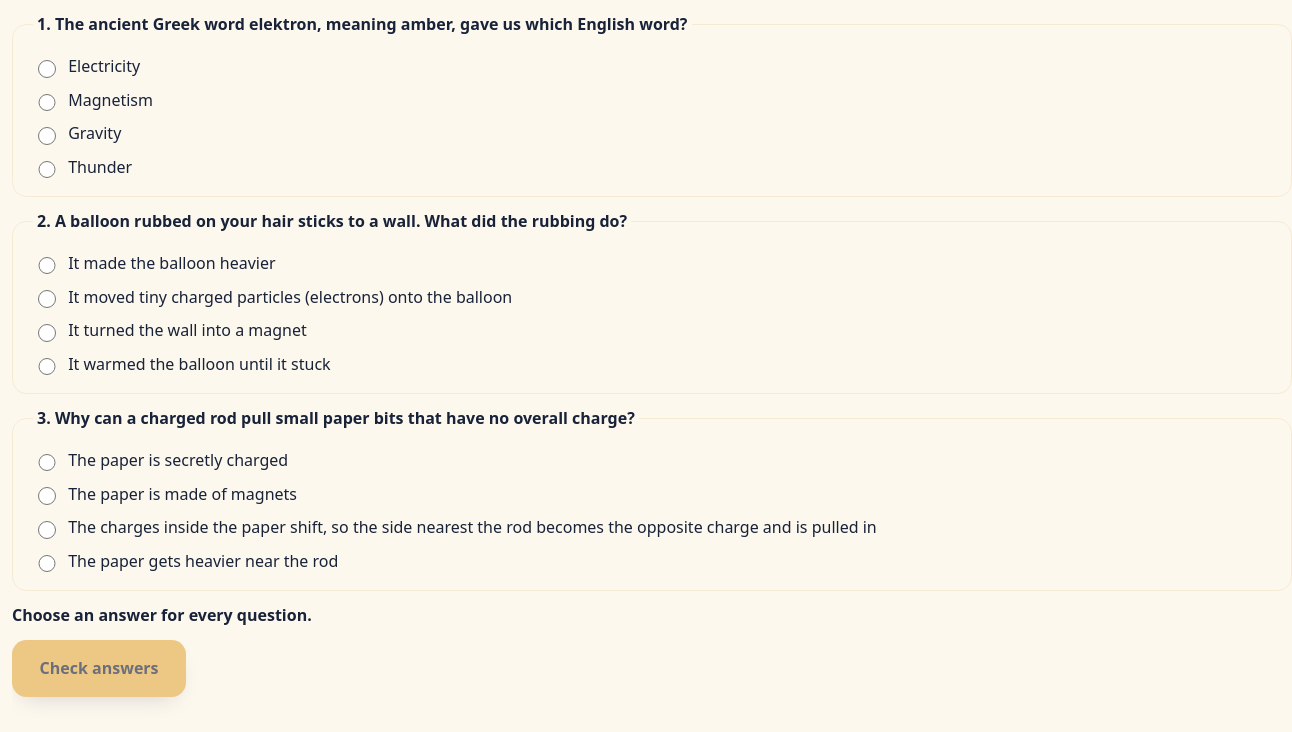
Test case: KnowledgeCheck › keeps Check answers disabled until every question is answered
Expected: the button "Check answers" is disabled, left=12, top=640, right=186, bottom=697
Click the radio button labelled "Electricity" at (47, 69), box left=38, top=60, right=56, bottom=78
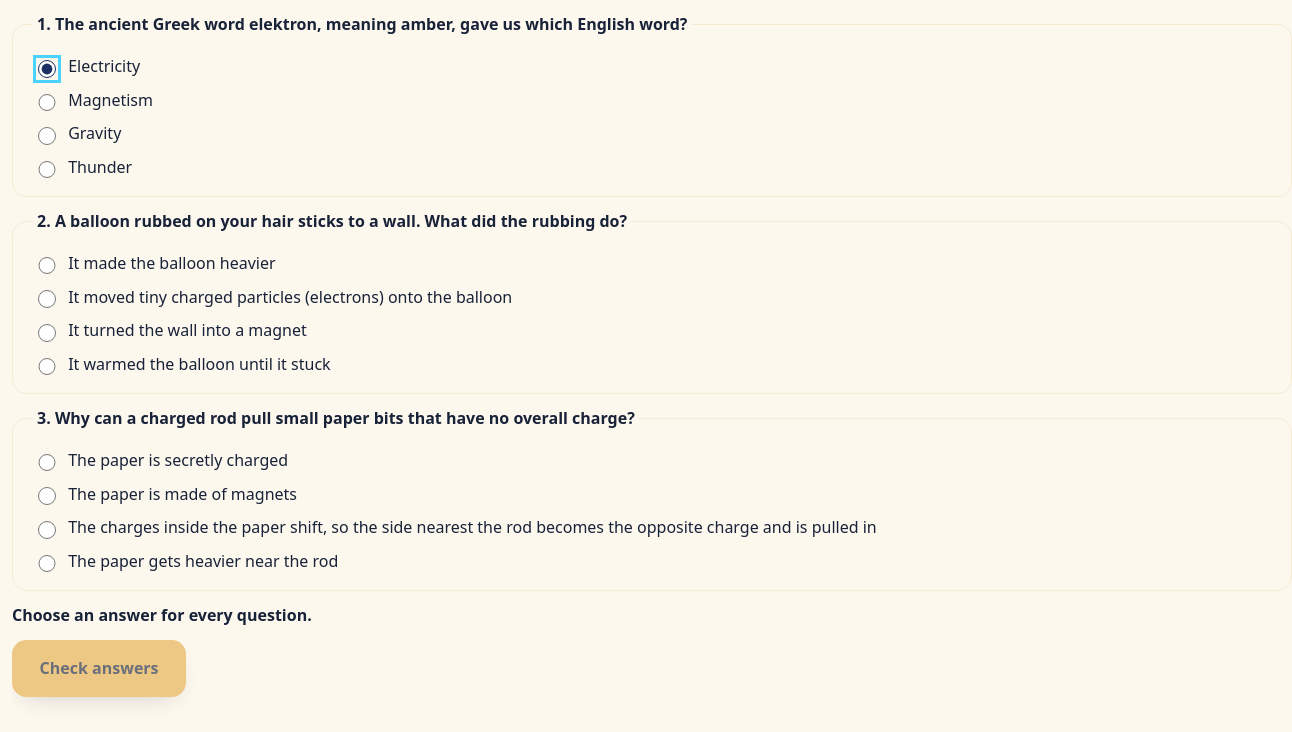
Click the radio button labelled "It moved tiny charged particles (electrons) onto the balloon" at (47, 299), box left=38, top=290, right=56, bottom=308
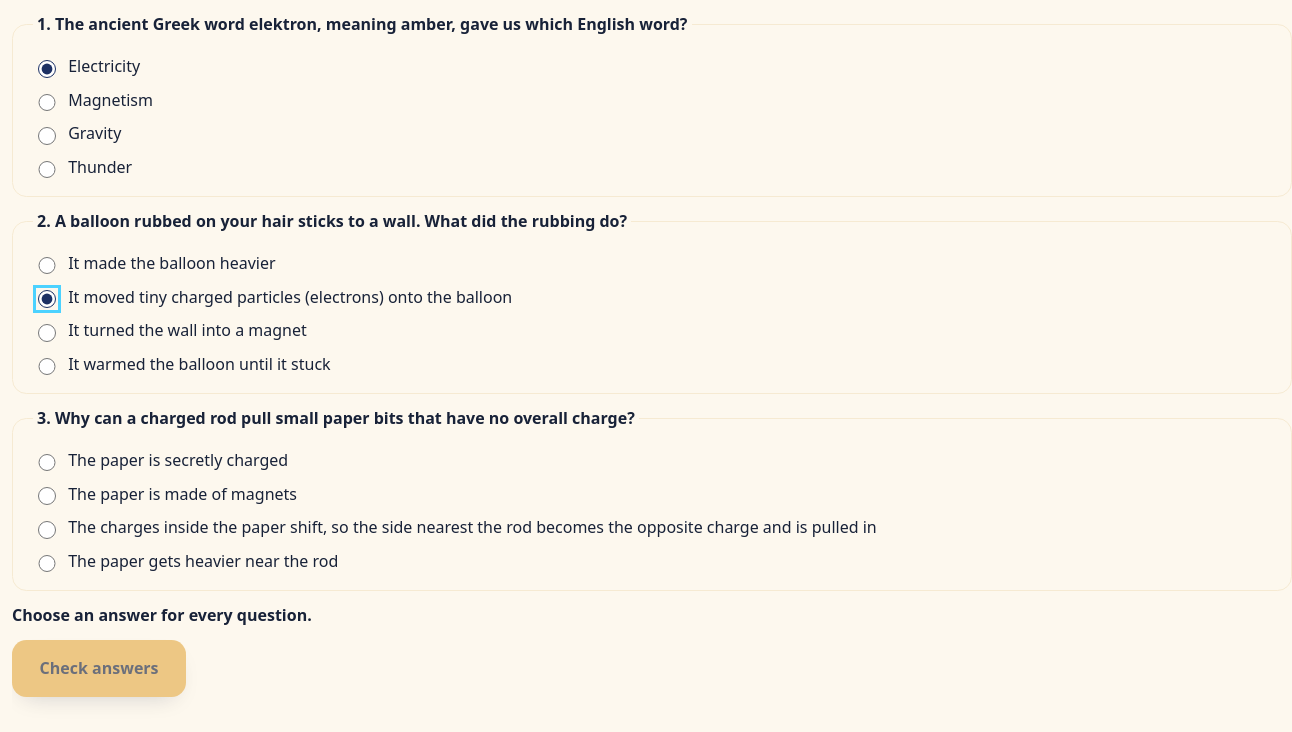
Expected: the button "Check answers" is disabled, left=12, top=640, right=186, bottom=697
Click the radio button named "The charges inside the paper shift, so the side nearest the rod becomes the opposite charge and is pulled in" at (47, 530), box left=38, top=521, right=56, bottom=539
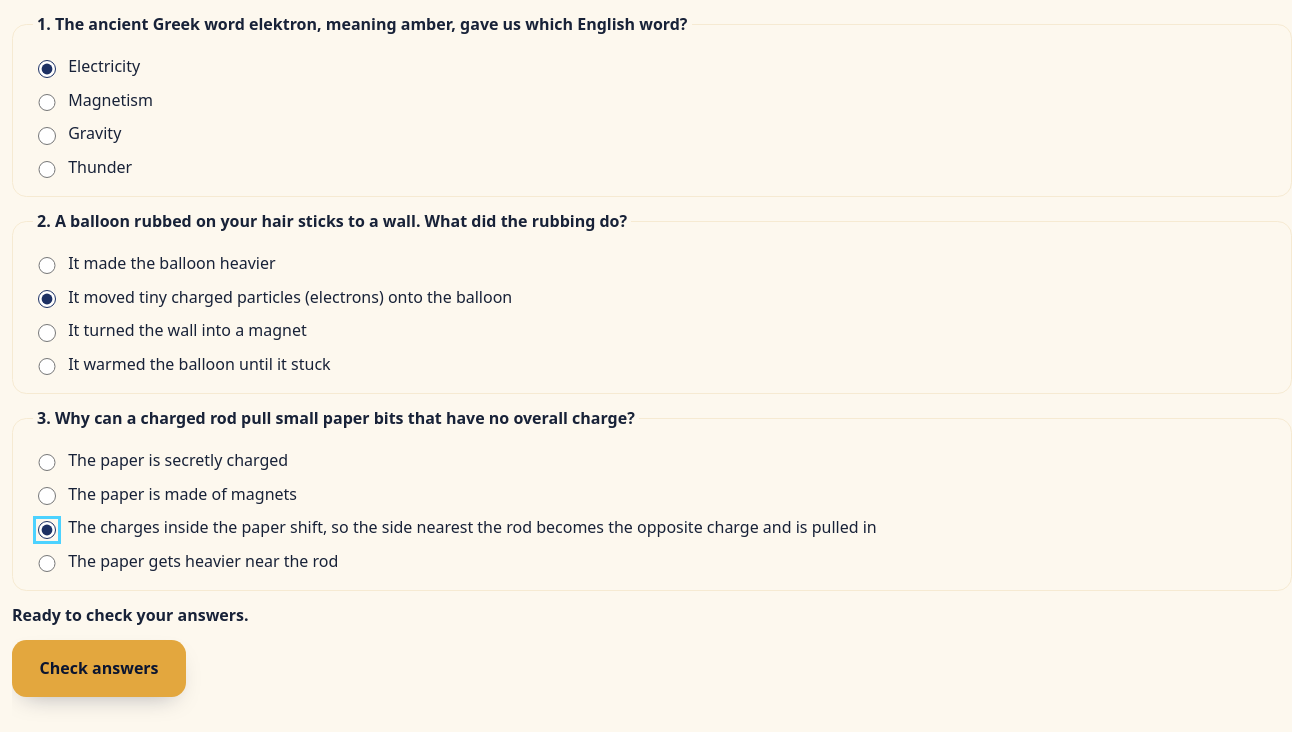
Expected: the button "Check answers" is enabled, left=12, top=640, right=186, bottom=697
